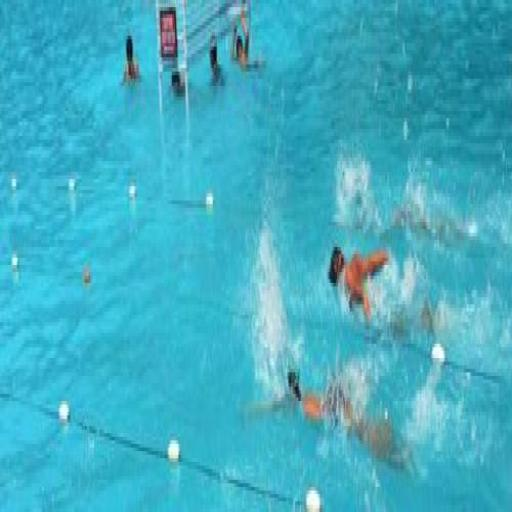swimming: (327, 236, 390, 330), (227, 4, 263, 78), (120, 29, 142, 93), (205, 28, 225, 96)
